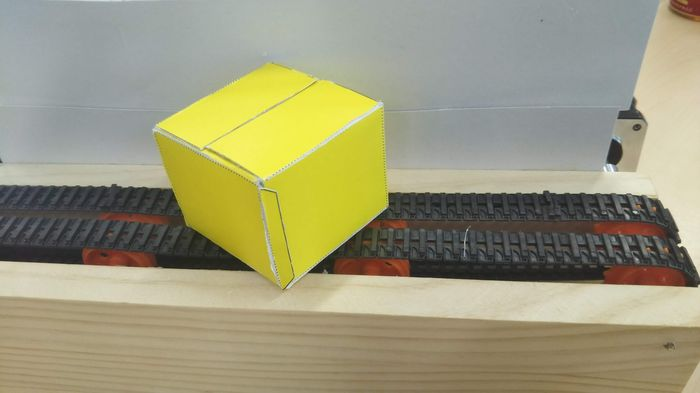box4: (151, 56, 393, 293)
